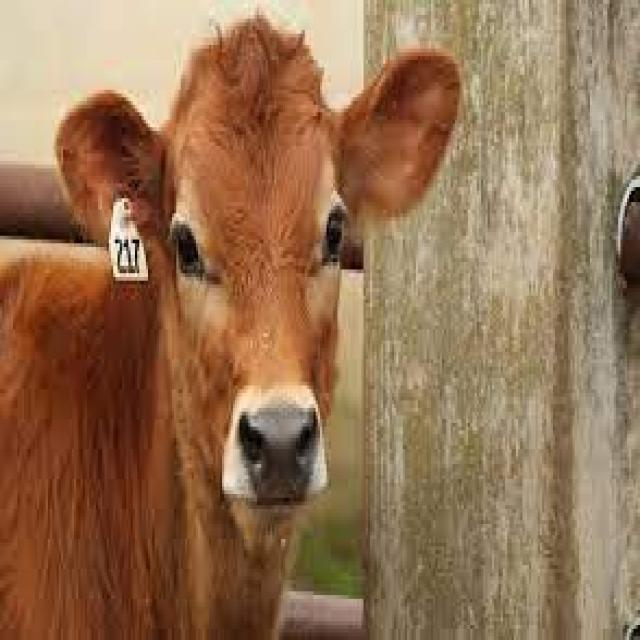cowFace: (41, 19, 458, 576)
